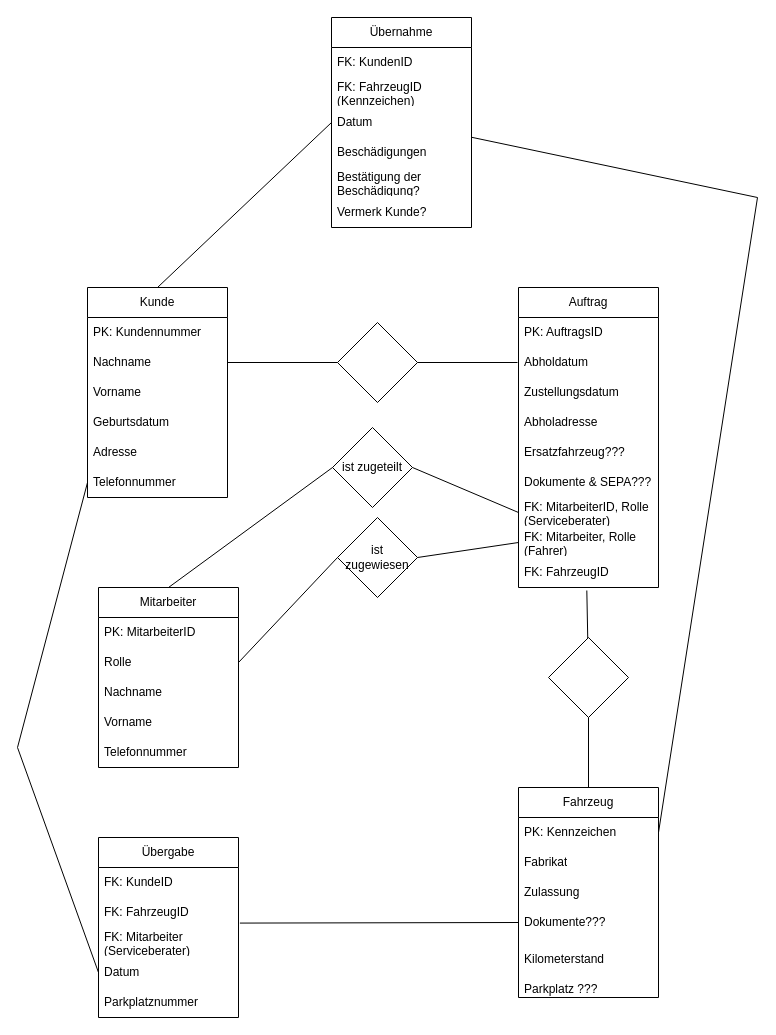
This 776x1035 diagram has some shape labels left out. The centre of each missing label's shape, as x and y in pixels:
"beinhaltet" goes at point 588,677.
"erteilt" goes at point 377,362.
